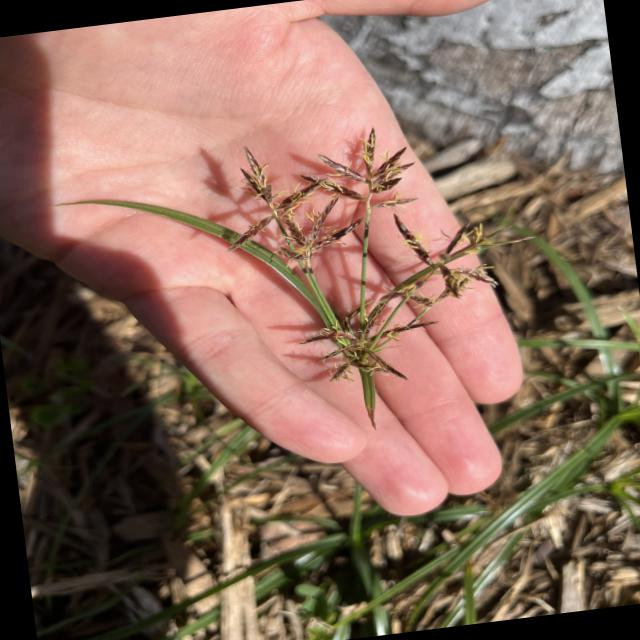cyperus: (193, 102, 557, 429)
